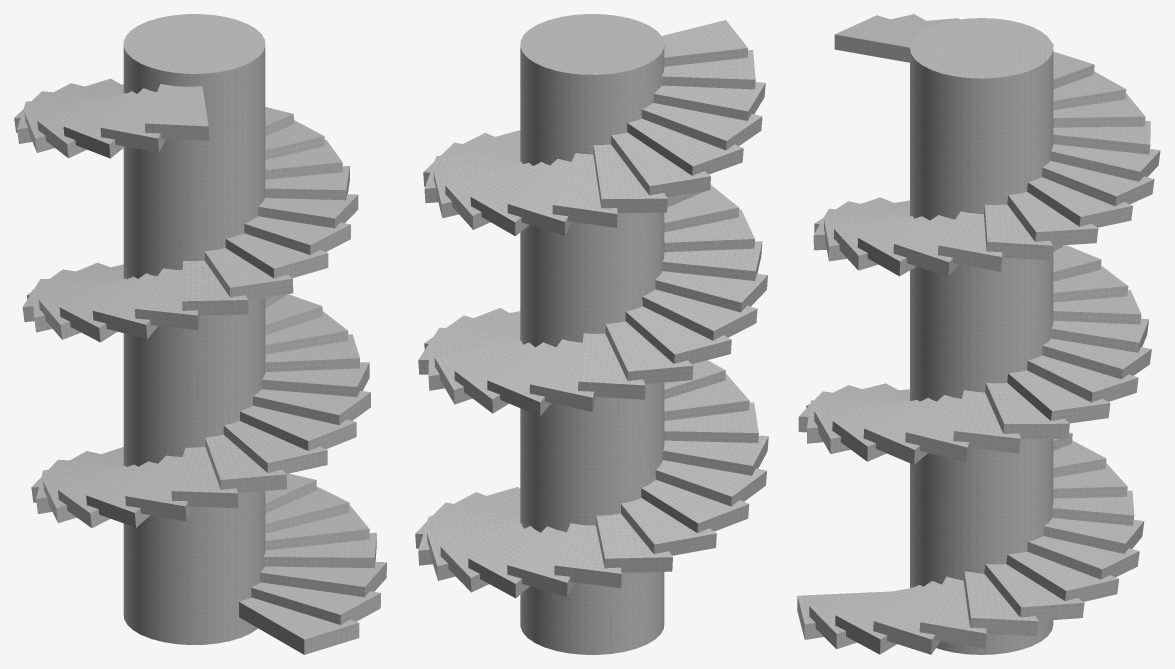
The model's file is Pool Rooms Stairs.fbx.
The picture shows the model from 3 angles, left to right: view 1: azimuth 30°, elevation 25°; view 2: azimuth 150°, elevation 25°; view 3: azimuth 270°, elevation 25°; orthographic projection.
Parts seen in each view (by area): view 1: Poolrooms Stairs By Mohammad Rajabloo.024; view 2: Poolrooms Stairs By Mohammad Rajabloo.024; view 3: Poolrooms Stairs By Mohammad Rajabloo.024.
Part boxes in pixels (x1=…): Poolrooms Stairs By Mohammad Rajabloo.024: x1=14, y1=14, x2=386, y2=654; Poolrooms Stairs By Mohammad Rajabloo.024: x1=415, y1=14, x2=768, y2=654; Poolrooms Stairs By Mohammad Rajabloo.024: x1=797, y1=14, x2=1160, y2=654.
Size of the model in its own units: 1302 by 2271 by 1297.
Materials: 2 (2 with a texture image).
